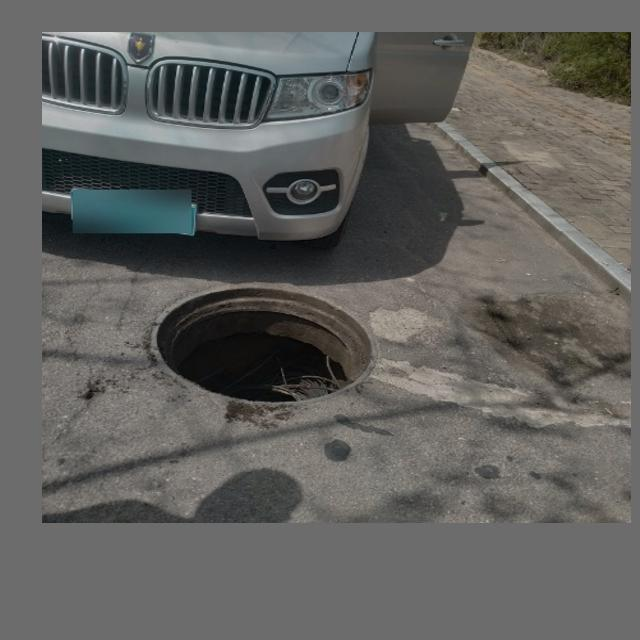lose: (140, 273, 378, 409)
